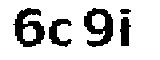6: (8, 5, 46, 51)
9: (81, 2, 117, 52)
c: (47, 15, 76, 50)
i: (115, 4, 138, 51)
